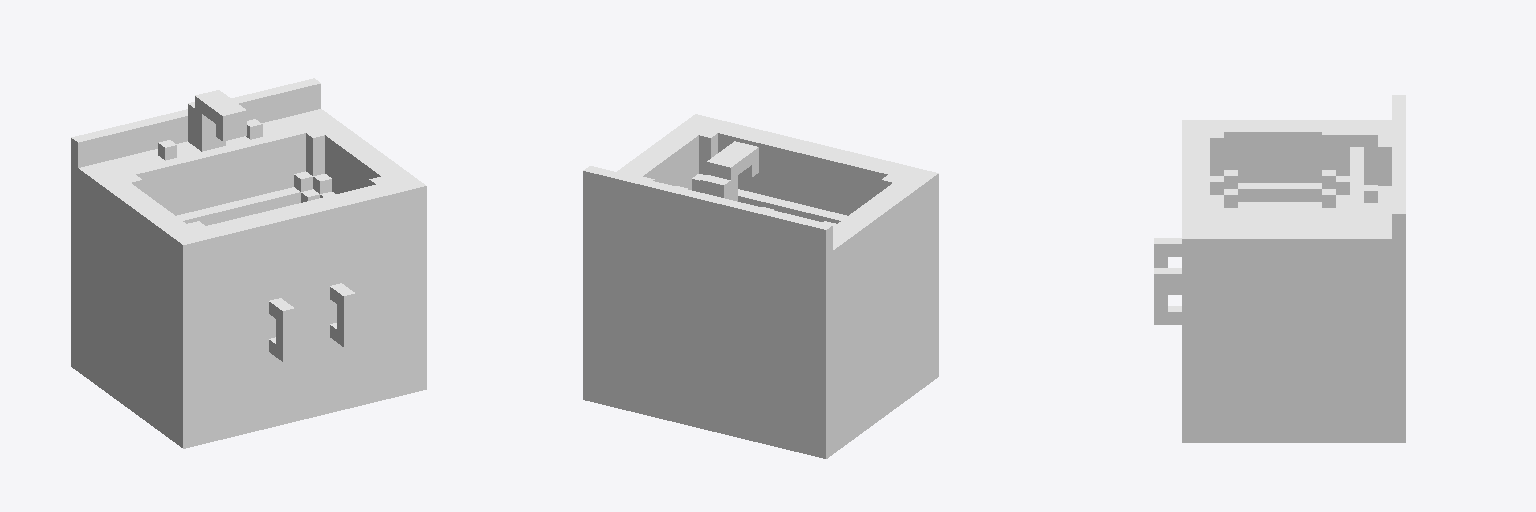
Rendered from kitchensink.obj.
3 views of the same model, side by side, from view 1: azimuth 30°, elevation 25°; view 2: azimuth 150°, elevation 25°; view 3: azimuth 270°, elevation 25° (orthographic).
Parts seen in each view (by area): view 1: kitchensink; view 2: kitchensink; view 3: kitchensink.
Boxes of the visible parts, x1,y1,x2,y2 form: kitchensink: [71, 78, 426, 448]; kitchensink: [583, 114, 938, 458]; kitchensink: [1154, 95, 1405, 442].
Size of the model in its own units: 20 by 20 by 18.